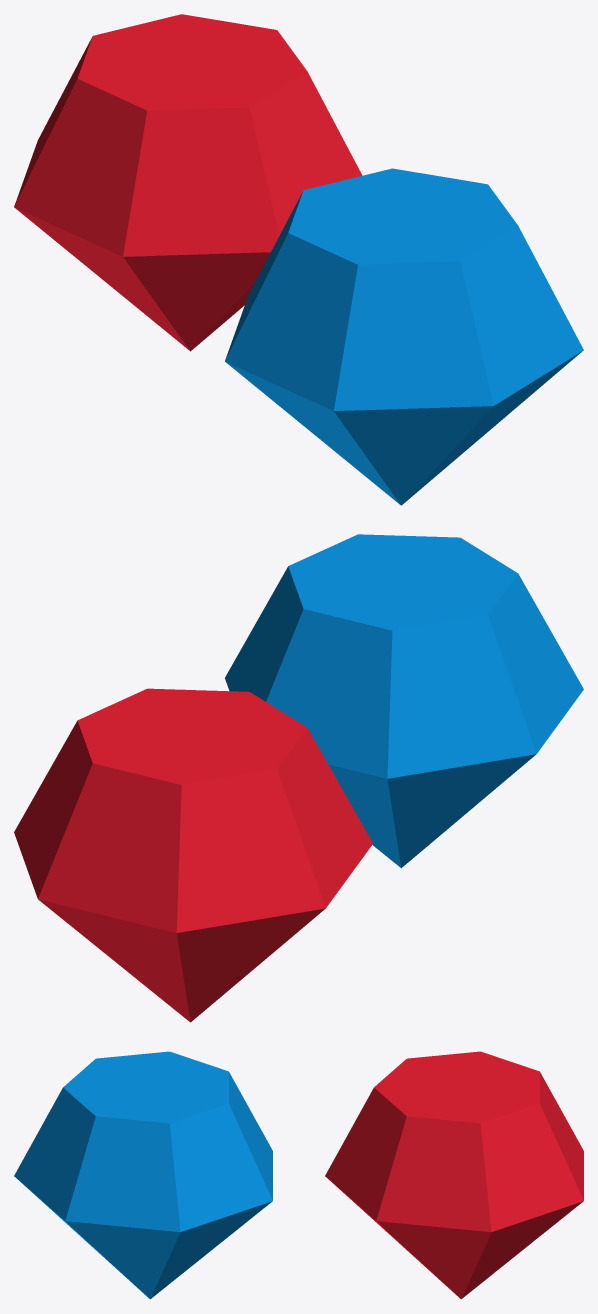
Rendered from stonelar.fbx.
The picture shows the model from 3 angles, top to bottom: view 1: azimuth 30°, elevation 25°; view 2: azimuth 150°, elevation 25°; view 3: azimuth 270°, elevation 25°; orthographic projection. The views are drawn at different scales.
Visible parts, largest first — view 1: Cone.001, Cone; view 2: Cone, Cone.001; view 3: Cone, Cone.001.
Part boxes in pixels (x1,y1,x2,y2): Cone.001: [225, 168, 583, 505]; Cone: [14, 14, 362, 351]; Cone: [14, 688, 372, 1022]; Cone.001: [225, 534, 583, 868]; Cone: [325, 1051, 583, 1299]; Cone.001: [14, 1051, 272, 1299].
Bounding box in the file's own units: 195 × 172 × 418.
